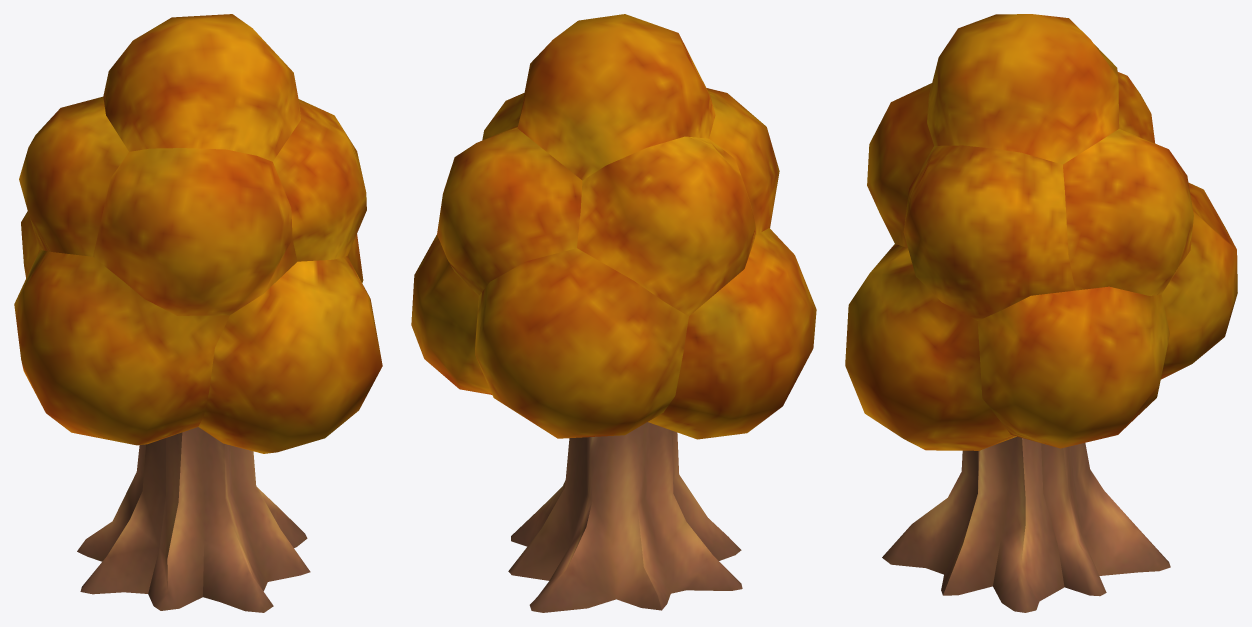
The model's file is Tree 3.fbx.
3 views of the same model, side by side, from view 1: azimuth 30°, elevation 25°; view 2: azimuth 150°, elevation 25°; view 3: azimuth 270°, elevation 25° (orthographic).
Visible parts, largest first — view 1: tree3; view 2: tree3; view 3: tree3.
Part boxes in pixels (left/top/right/bottom): tree3: left=14, top=14, right=382, bottom=612; tree3: left=411, top=14, right=816, bottom=612; tree3: left=845, top=14, right=1237, bottom=612.
Bounding box in the file's own units: 1.4 × 2.05 × 1.34.
